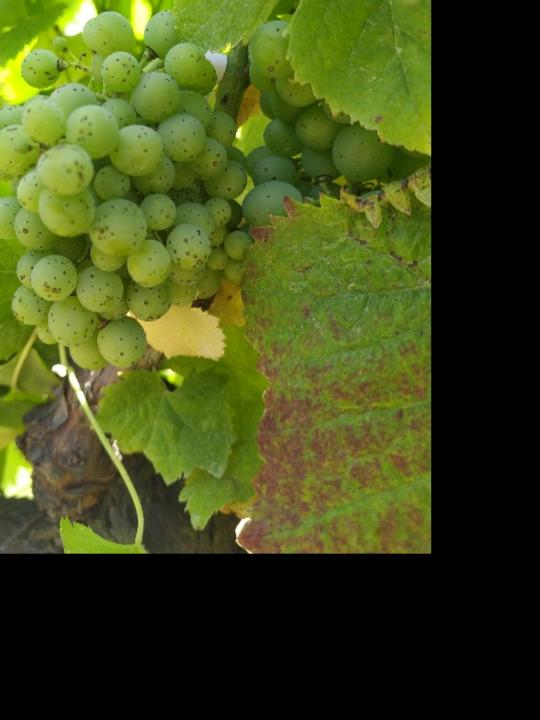grape: (0, 10, 255, 373)
